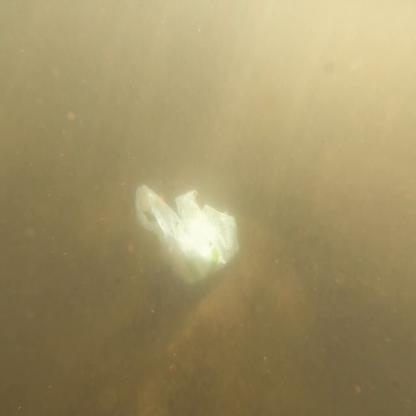Rác: (136, 173, 240, 277)
